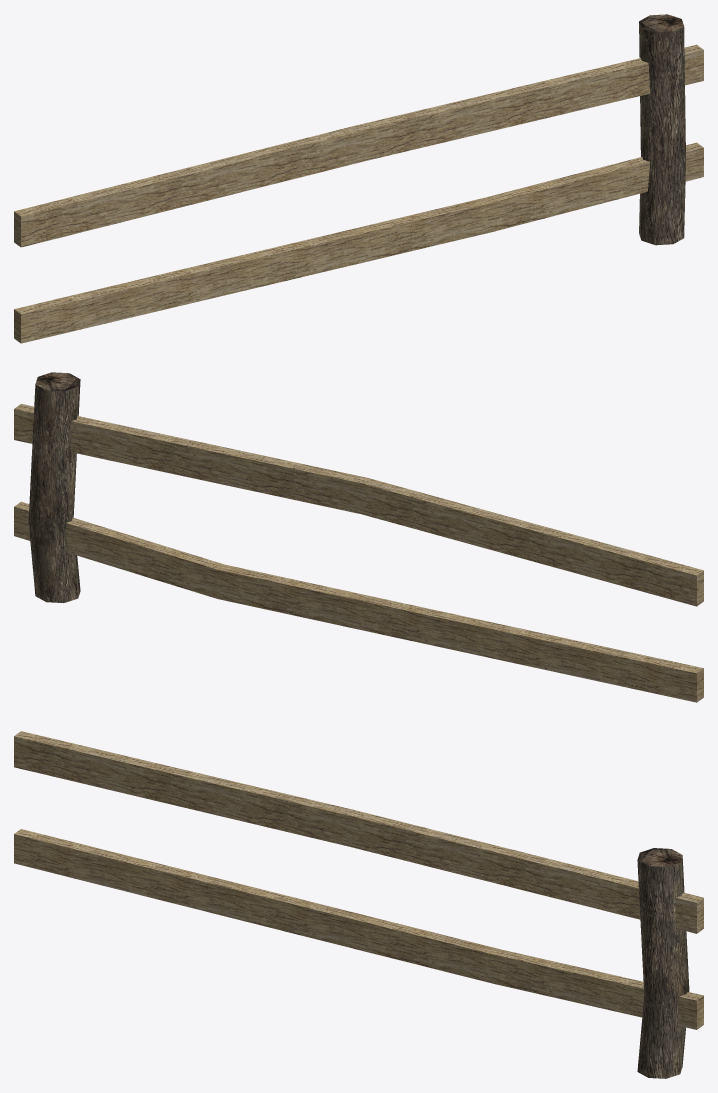
The model's file is woodenFence09.FBX.
The picture shows the model from 3 angles, top to bottom: view 1: azimuth 30°, elevation 25°; view 2: azimuth 150°, elevation 25°; view 3: azimuth 330°, elevation 25°; orthographic projection.
Visible parts, largest first — view 1: wooden_fence_large_1pole_R; view 2: wooden_fence_large_1pole_R; view 3: wooden_fence_large_1pole_R.
Part boxes in pixels (left/top/right/bottom): wooden_fence_large_1pole_R: left=14, top=14, right=703, bottom=343; wooden_fence_large_1pole_R: left=14, top=372, right=703, bottom=702; wooden_fence_large_1pole_R: left=14, top=731, right=703, bottom=1078.
Size of the model in its own units: 482 by 143 by 31.6.
